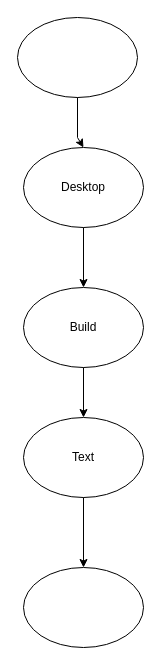
The diagram is 161 pixels wide and 665 high, and some of its shapes have lost their labels. Here are the shapes that lost their labels. From the top down, the box of each, then its label:
(16, 16, 138, 98): Flow
(22, 566, 144, 648): Release
